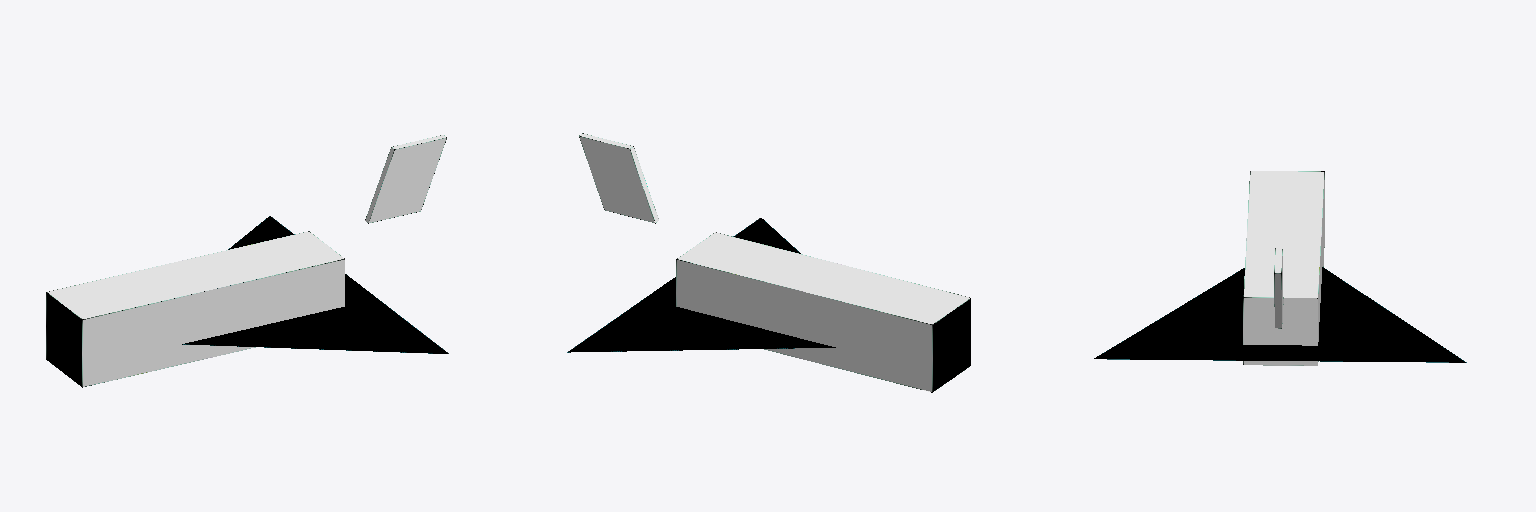
The picture shows the model from 3 angles: view 1: azimuth 30°, elevation 25°; view 2: azimuth 150°, elevation 25°; view 3: azimuth 270°, elevation 25°; orthographic projection.
Parts seen in each view (by area): view 1: Shuttle_Body; view 2: Shuttle_Body; view 3: Shuttle_Body.
Part boxes in pixels (left/top/right/bottom): Shuttle_Body: left=46, top=135, right=448, bottom=387; Shuttle_Body: left=567, top=133, right=970, bottom=392; Shuttle_Body: left=1094, top=171, right=1466, bottom=365.
Size of the model in its own units: 5.81 by 2.2 by 5.
1 materials, 1 textured.